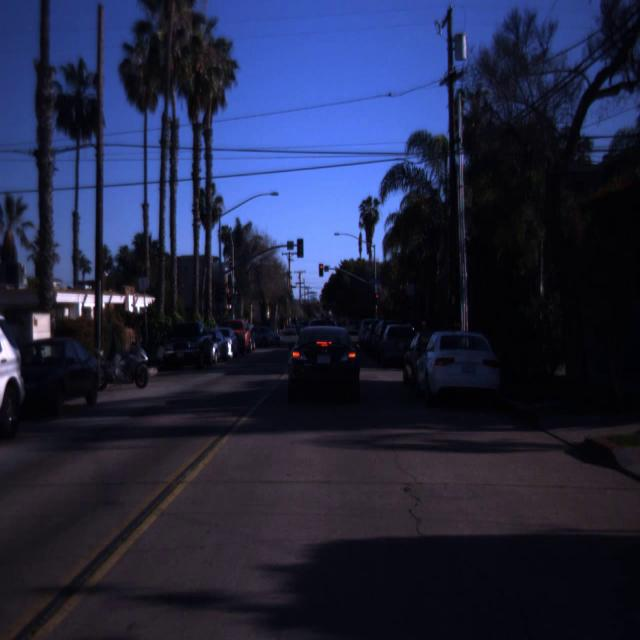stop: (225, 291, 233, 306), (373, 294, 381, 306)
stop traffic light: (225, 291, 233, 306), (373, 294, 381, 306)
